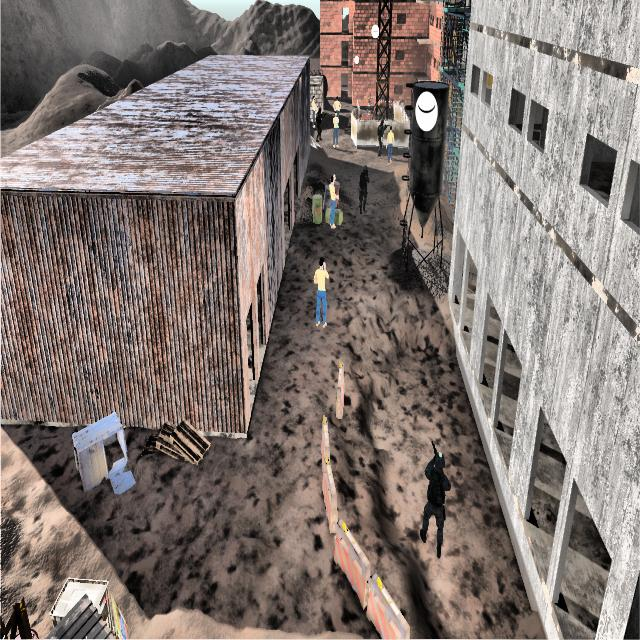bad: (417, 436, 450, 567), (356, 158, 370, 219), (373, 113, 386, 159), (313, 104, 325, 145)
good: (309, 249, 333, 334), (322, 170, 342, 235), (386, 120, 396, 169), (310, 88, 318, 126), (332, 111, 340, 147), (334, 93, 341, 114)
